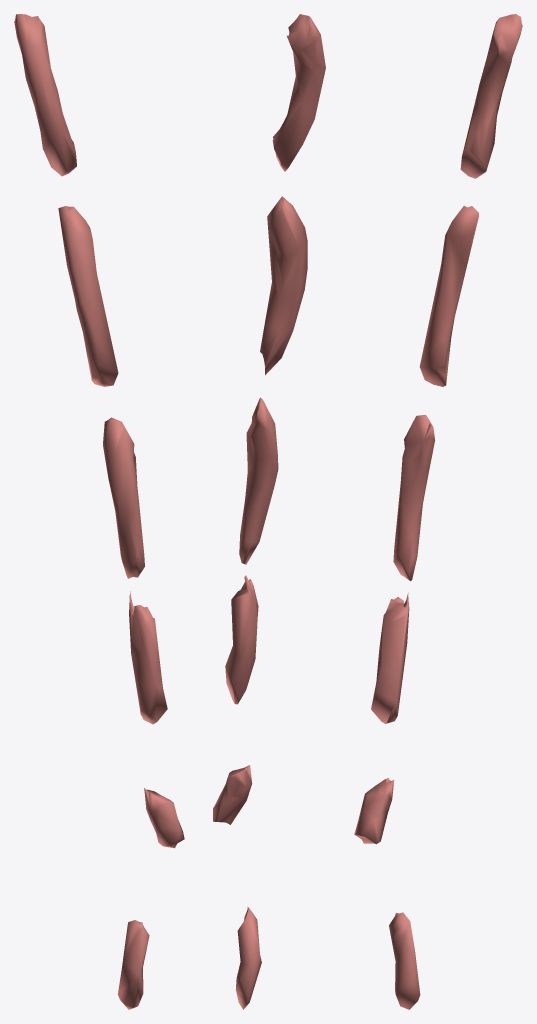
3 views of the same model, side by side, from view 1: azimuth 90°, elevation 25°; view 2: azimuth 210°, elevation 25°; view 3: azimuth 270°, elevation 25° (orthographic). The views are drawn at different scales.
Visible parts, largest first — view 1: ZA_c6d75915ec5e3655; view 2: ZA_c6d75915ec5e3655; view 3: ZA_c6d75915ec5e3655.
Boxes of the visible parts, <box> form: ZA_c6d75915ec5e3655: <box>14,14,184,1009</box>; ZA_c6d75915ec5e3655: <box>213,14,325,1009</box>; ZA_c6d75915ec5e3655: <box>354,14,522,1009</box>.
Bounding box in the file's own units: 0.00874 × 0.1603 × 0.0247.
